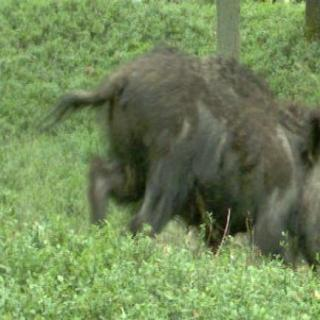Pig: (57, 36, 318, 260)
